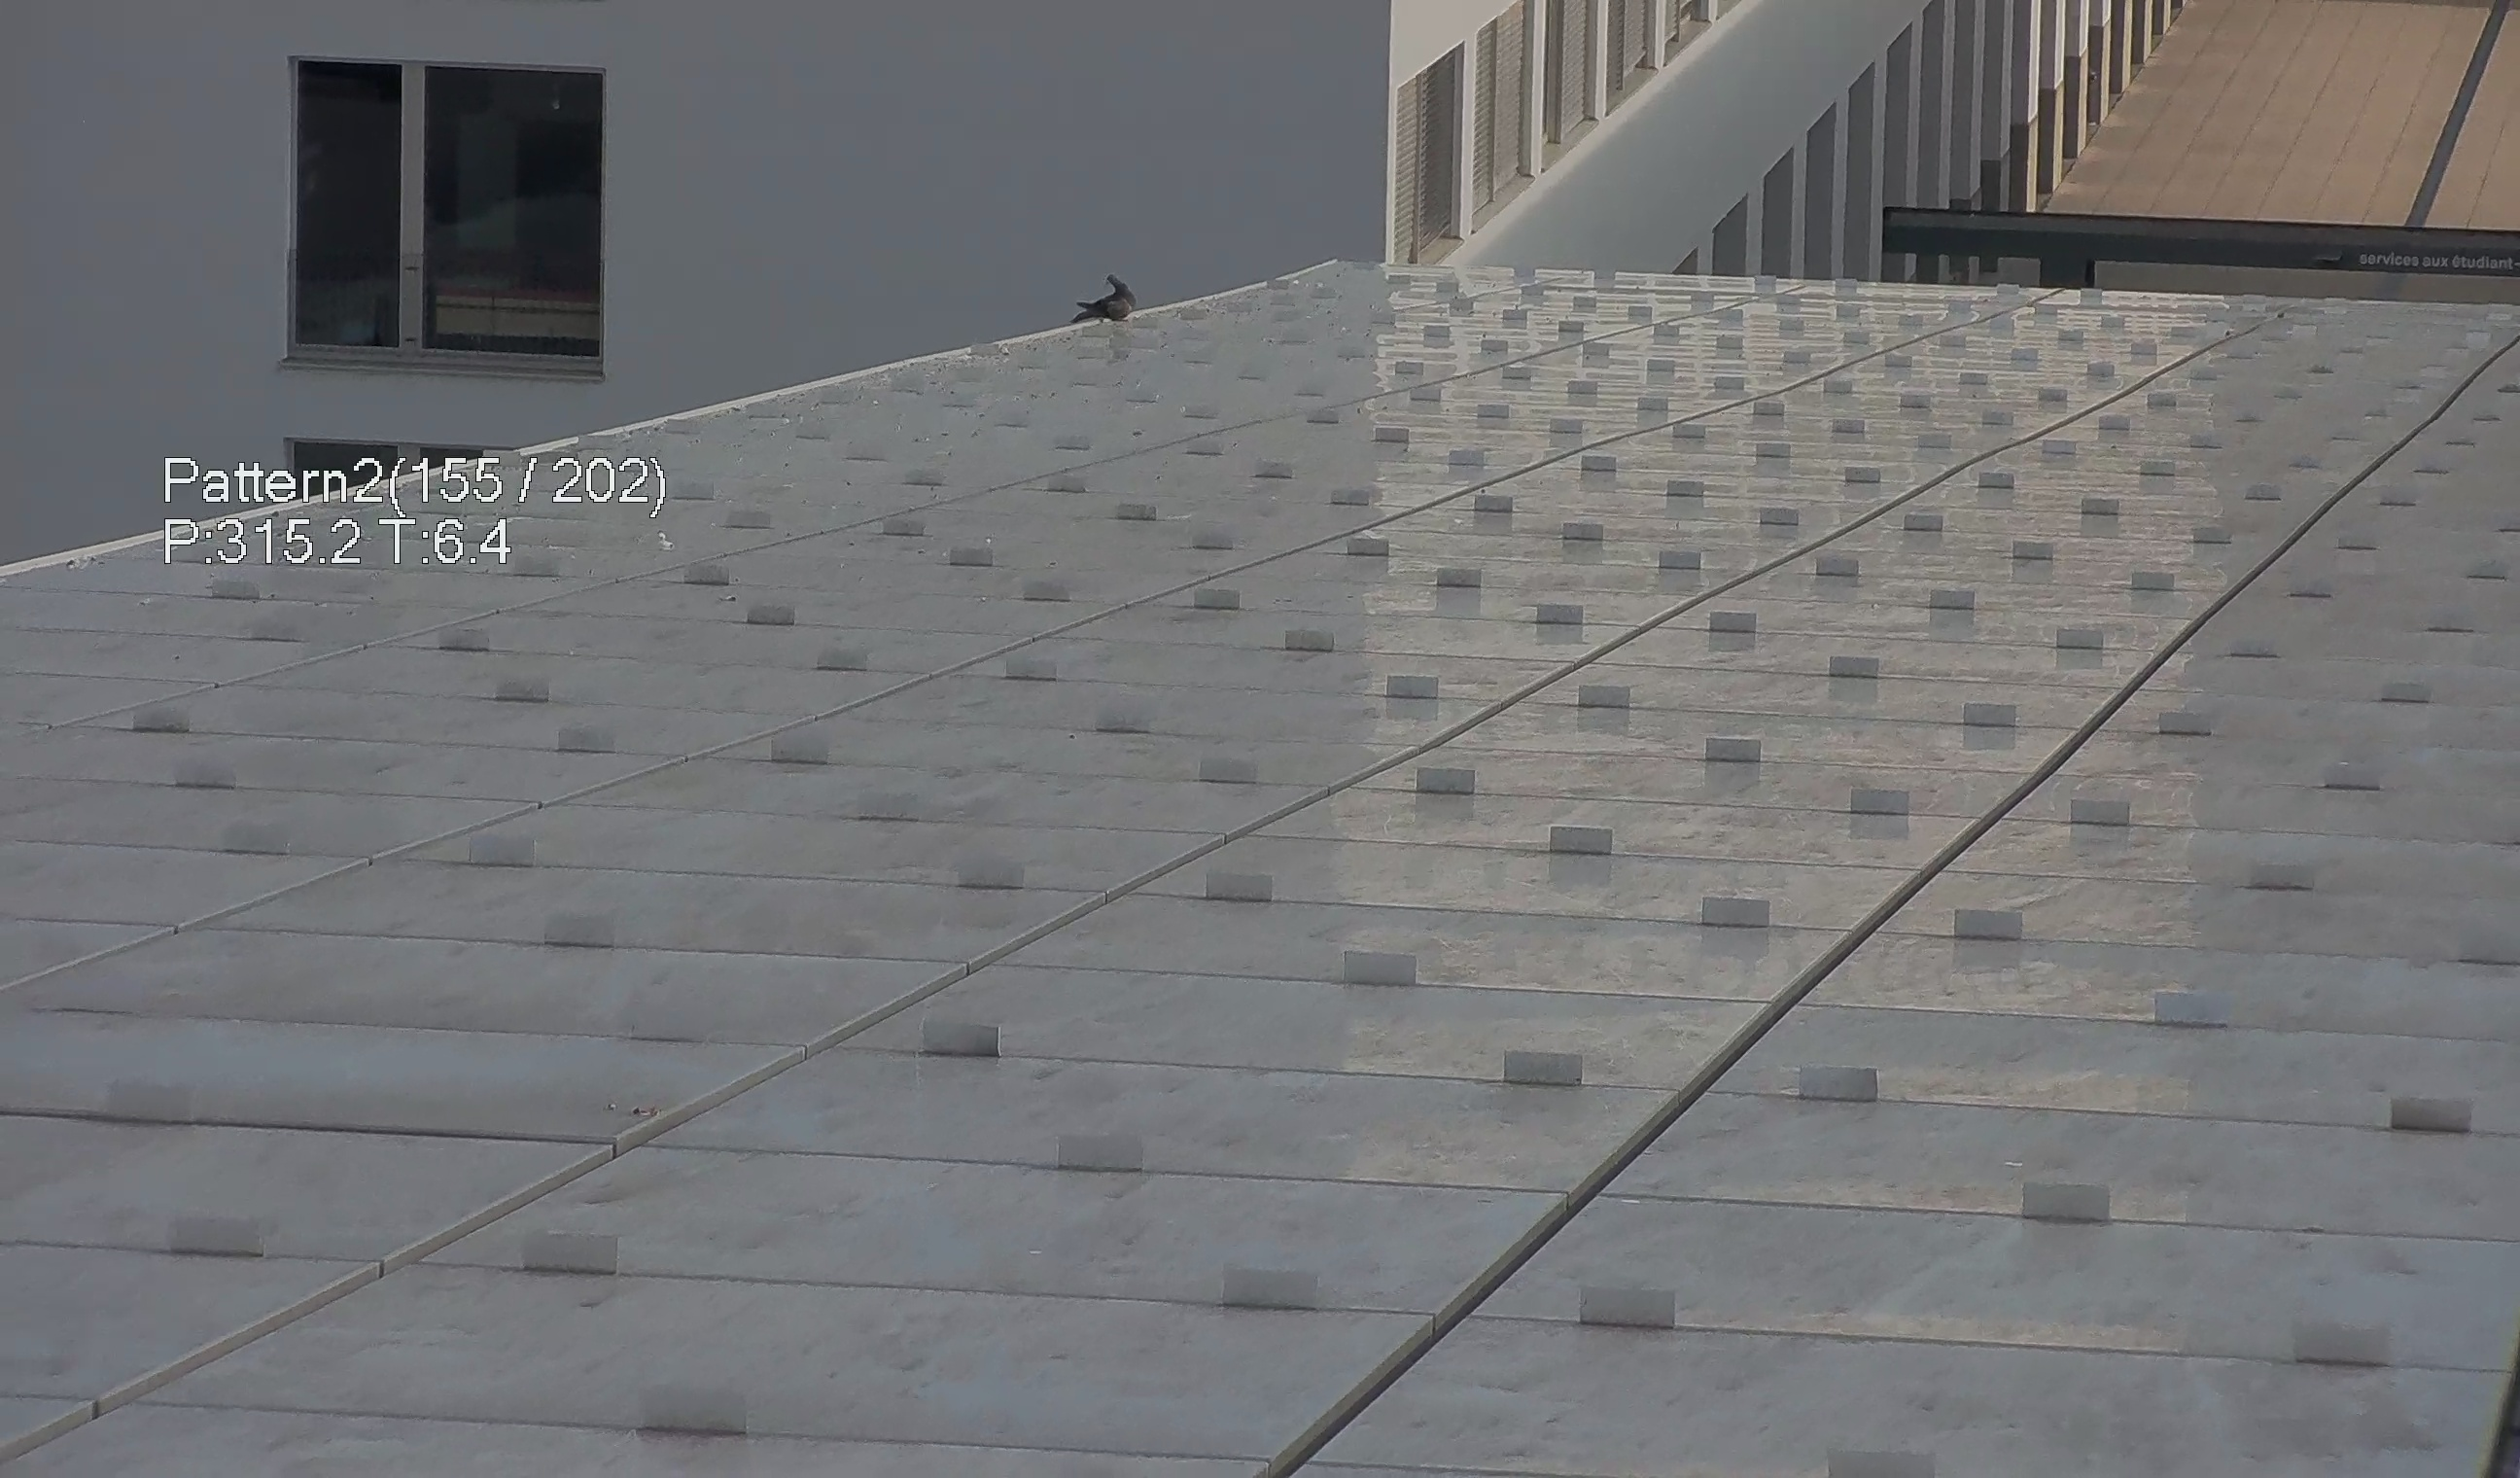Pigeon: (1071, 257, 1147, 326)
